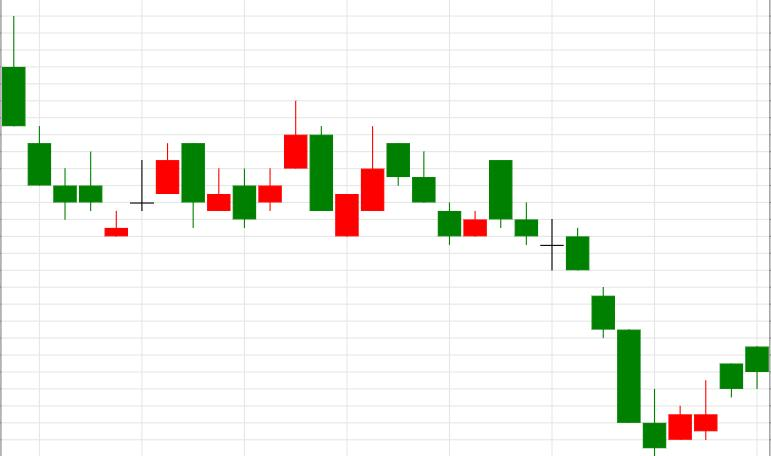inverse_hammer_rise: (490, 159, 665, 455)
